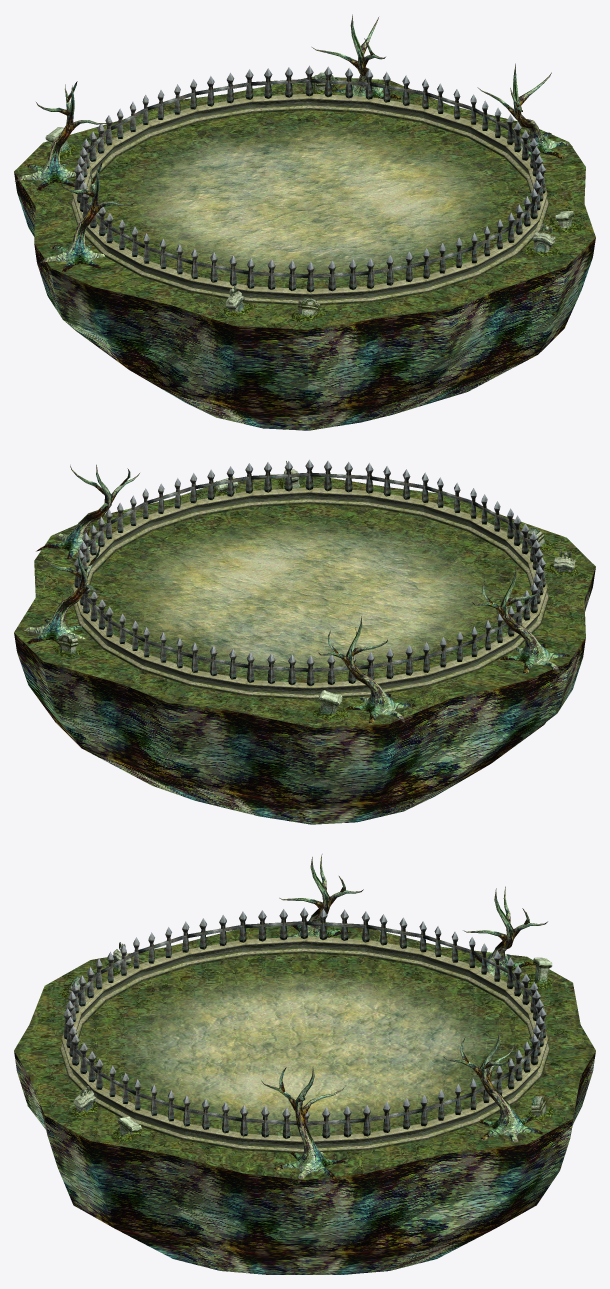
Rendered from Bogmire Arena.obj.
The picture shows the model from 3 angles, top to bottom: view 1: azimuth 30°, elevation 25°; view 2: azimuth 150°, elevation 25°; view 3: azimuth 270°, elevation 25°; orthographic projection. The views are drawn at different scales.
Parts seen in each view (by area): view 1: part3_texture3, part0_texture4.001, part1_texture0, part2_texture1, part0_texture4, part5_texture2, part2_texture6, part1_texture7; view 2: part3_texture3, part0_texture4.001, part1_texture0, part2_texture1, part0_texture4, part5_texture2, part0_texture8, part1_texture7; view 3: part3_texture3, part0_texture4.001, part1_texture0, part2_texture1, part0_texture4, part5_texture2, part0_texture8.
Part boxes in pixels (x1,y1,x2,y2): part3_texture3: [14, 76, 595, 329]; part0_texture4.001: [14, 172, 595, 430]; part1_texture0: [71, 93, 548, 305]; part2_texture1: [74, 65, 545, 292]; part0_texture4: [15, 14, 572, 277]; part5_texture2: [46, 85, 583, 322]; part2_texture6: [225, 231, 555, 312]; part1_texture7: [297, 72, 334, 315]; part3_texture3: [14, 476, 595, 727]; part0_texture4.001: [14, 567, 595, 824]; part1_texture0: [72, 487, 548, 699]; part2_texture1: [74, 459, 545, 686]; part0_texture4: [22, 464, 576, 727]; part5_texture2: [52, 478, 579, 719]; part0_texture8: [215, 476, 342, 718]; part1_texture7: [57, 528, 548, 654]; part3_texture3: [14, 925, 595, 1179]; part0_texture4.001: [14, 1051, 595, 1274]; part1_texture0: [60, 936, 549, 1153]; part2_texture1: [63, 907, 546, 1138]; part0_texture4: [261, 854, 549, 1182]; part5_texture2: [59, 962, 553, 1142]; part0_texture8: [117, 957, 552, 1136].
Size of the model in its own units: 15.7 by 8.01 by 14.84.
10 materials, 10 textured.
